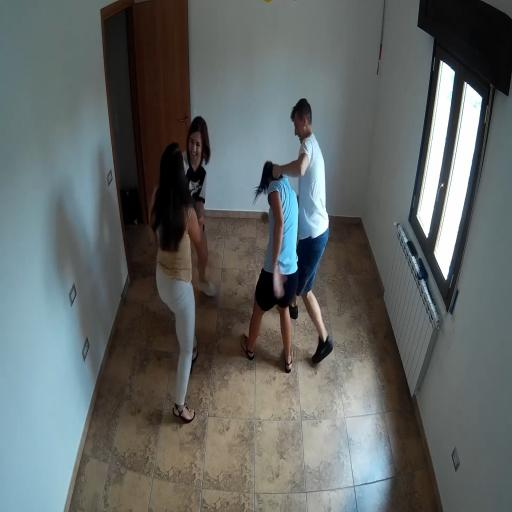violencia: (228, 84, 340, 380)
